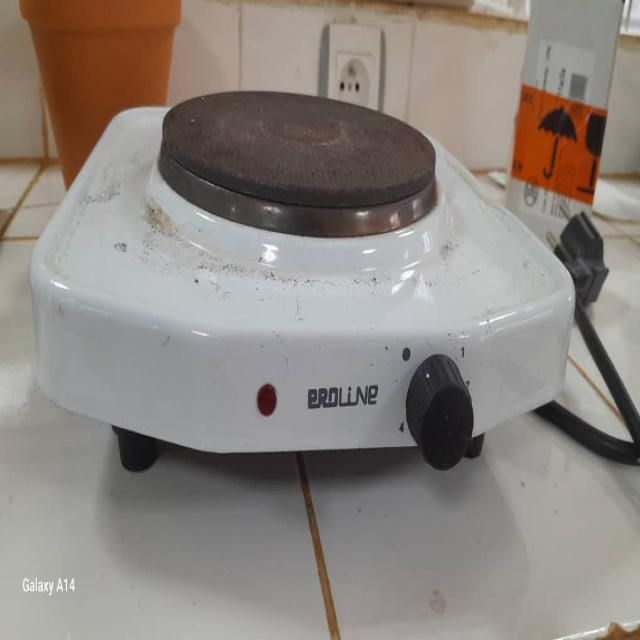Heating Source: (39, 91, 574, 473)
